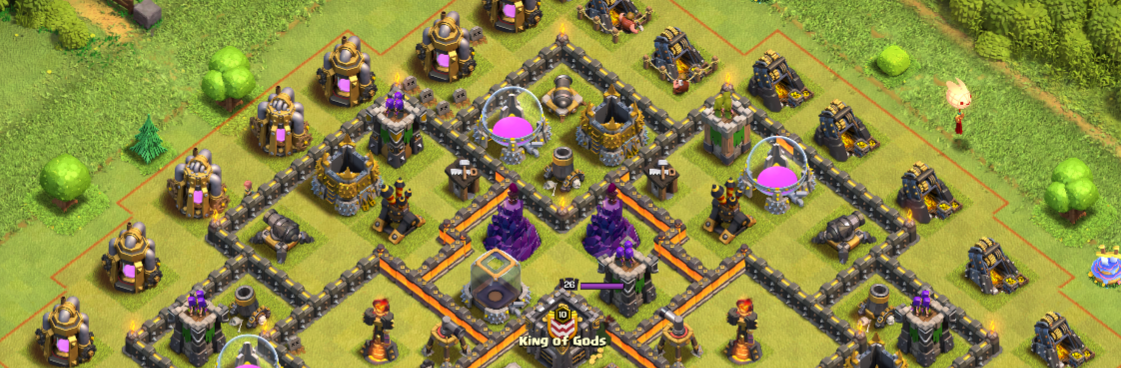elixir_colector: (95, 213, 167, 307), (307, 30, 384, 112), (23, 290, 101, 368), (407, 5, 478, 90), (241, 81, 310, 165), (162, 143, 233, 223), (480, 0, 548, 44)
gold_mine: (812, 81, 879, 169), (896, 152, 965, 236), (961, 226, 1029, 309), (745, 38, 813, 118), (642, 20, 716, 92), (1030, 307, 1102, 368), (575, 0, 651, 41)
